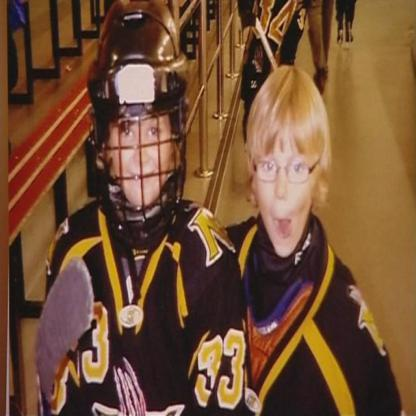face: (109, 65, 173, 209), (257, 127, 315, 257)
